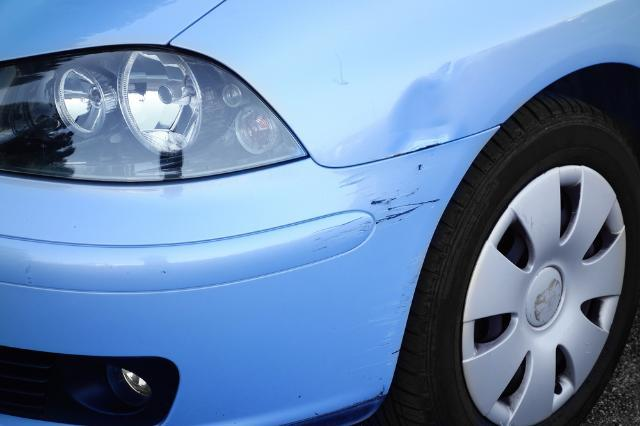dent: (385, 75, 457, 152)
scratch: (354, 248, 426, 372), (307, 188, 440, 250)
